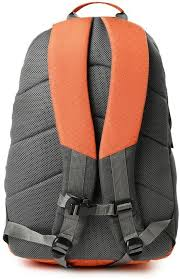backpack: (2, 1, 178, 268)
